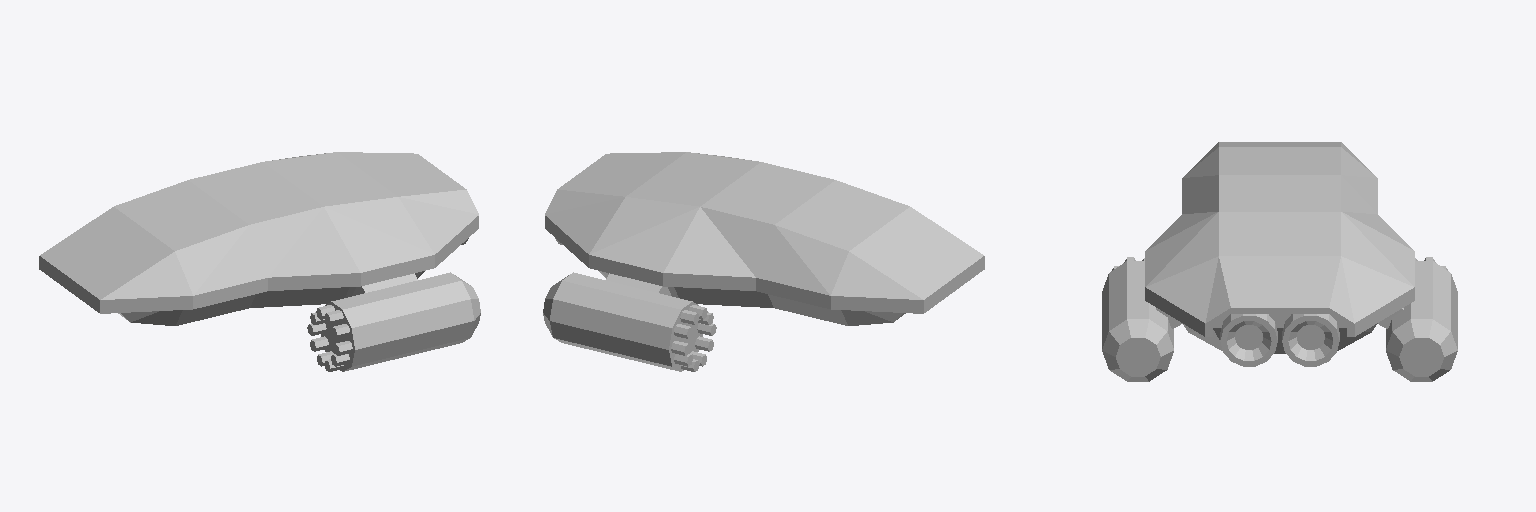
Rendered from space_cruiser_4.obj.
The picture shows the model from 3 angles: view 1: azimuth 30°, elevation 25°; view 2: azimuth 150°, elevation 25°; view 3: azimuth 270°, elevation 25°; orthographic projection.
Visible parts, largest first — view 1: space_cruiser_4; view 2: space_cruiser_4; view 3: space_cruiser_4.
Part boxes in pixels (left/top/right/bottom): space_cruiser_4: left=39, top=152, right=480, bottom=371; space_cruiser_4: left=543, top=152, right=984, bottom=371; space_cruiser_4: left=1102, top=142, right=1457, bottom=381.
Size of the model in its own units: 29.88 by 9.61 by 24.75.